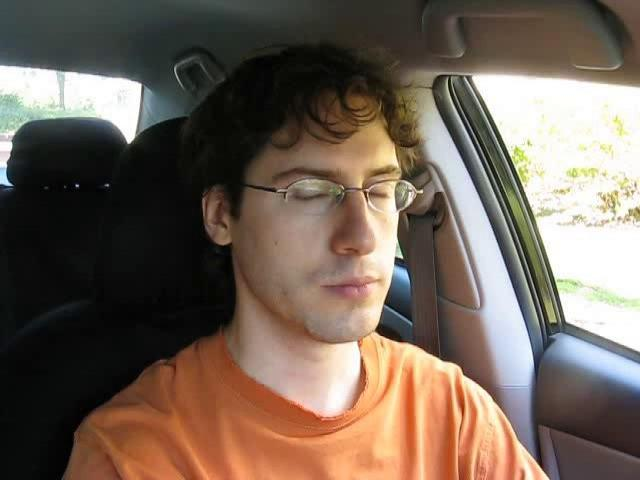eye_closed: (288, 185, 333, 208), (365, 186, 395, 206)
face: (250, 139, 403, 346)
